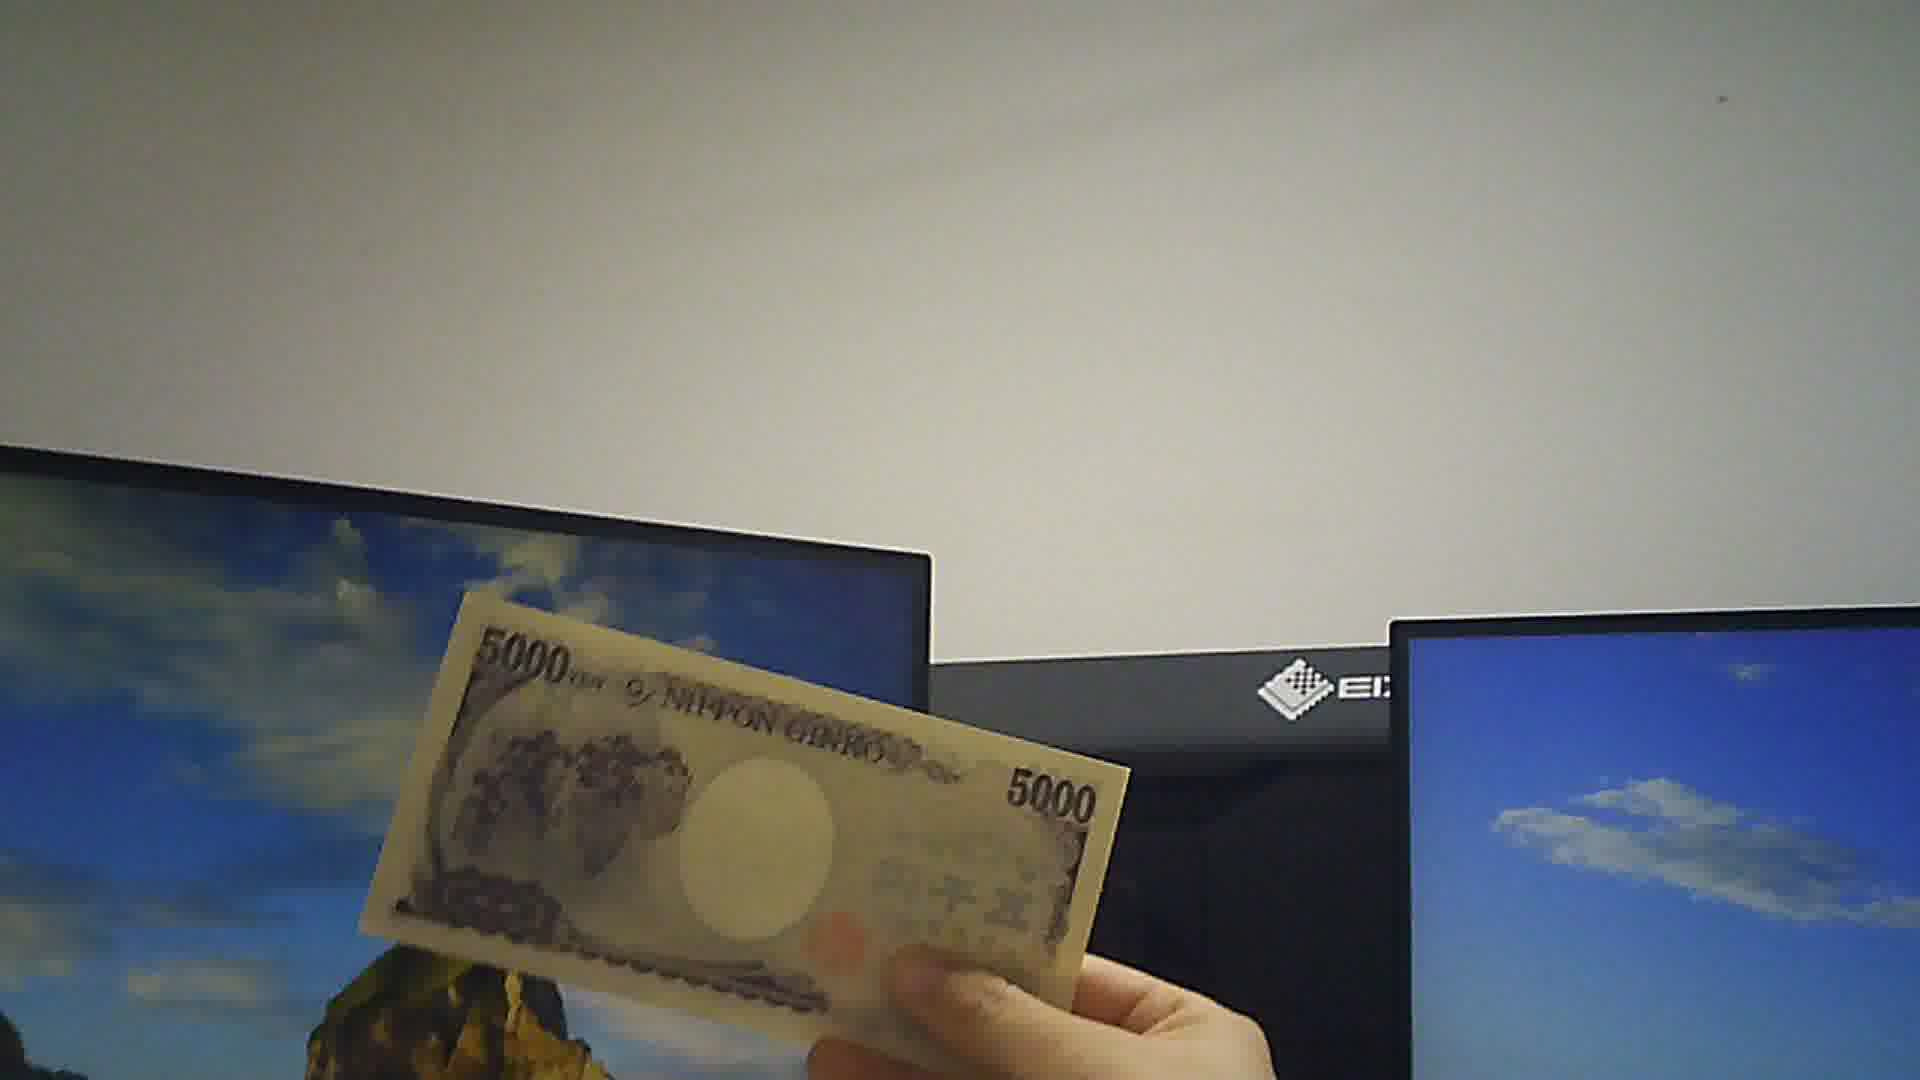5,000 Yen: (355, 582, 1131, 1023)
